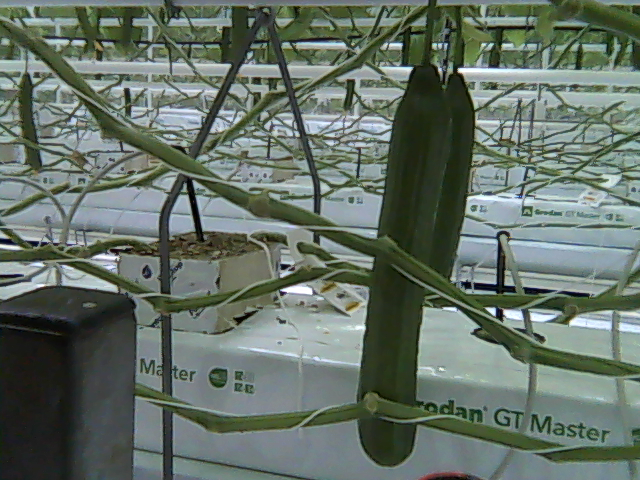concombre: (351, 56, 455, 467)
